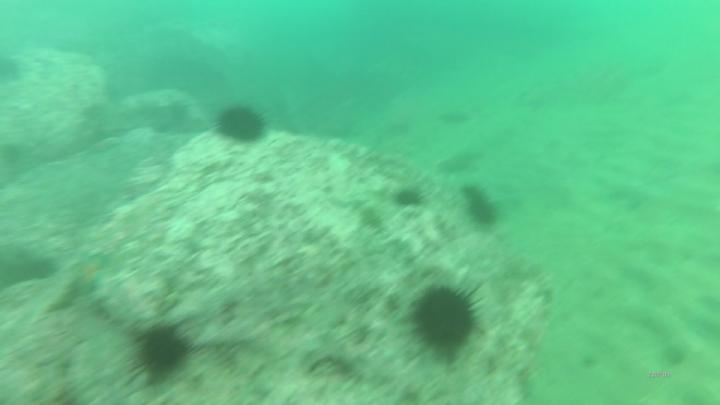echinus: (411, 284, 481, 360), (137, 320, 193, 384), (215, 102, 268, 149), (463, 186, 503, 227), (392, 188, 428, 214)
starfish: (67, 250, 112, 296)
